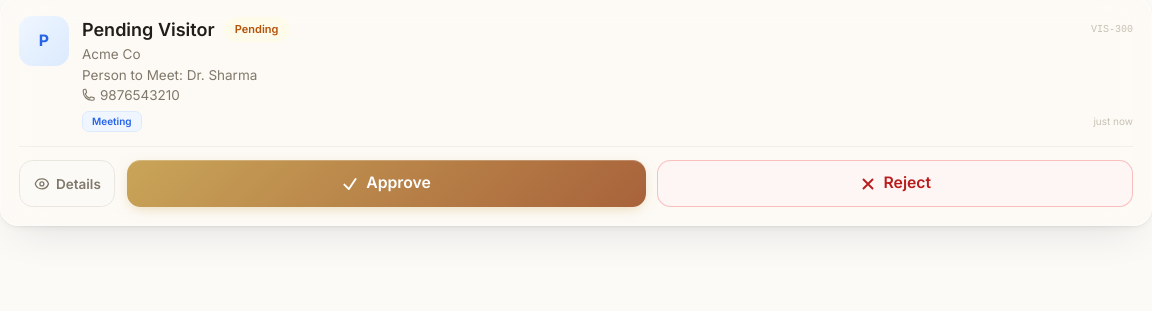
Test: ApprovalsPendingList › Confirm Reject is disabled until a reason is entered
Click the button "Reject". click: x=895, y=184
box: [657, 160, 1133, 207]
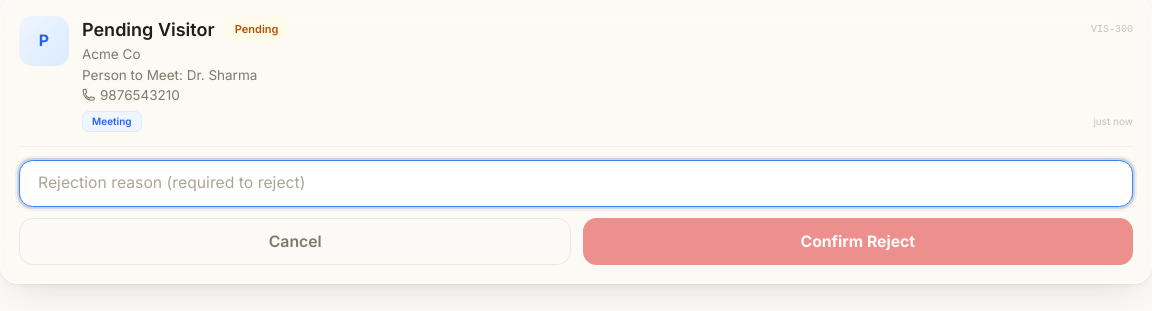
Expected: the button "Confirm Reject" is disabled, [583, 218, 1133, 265]
